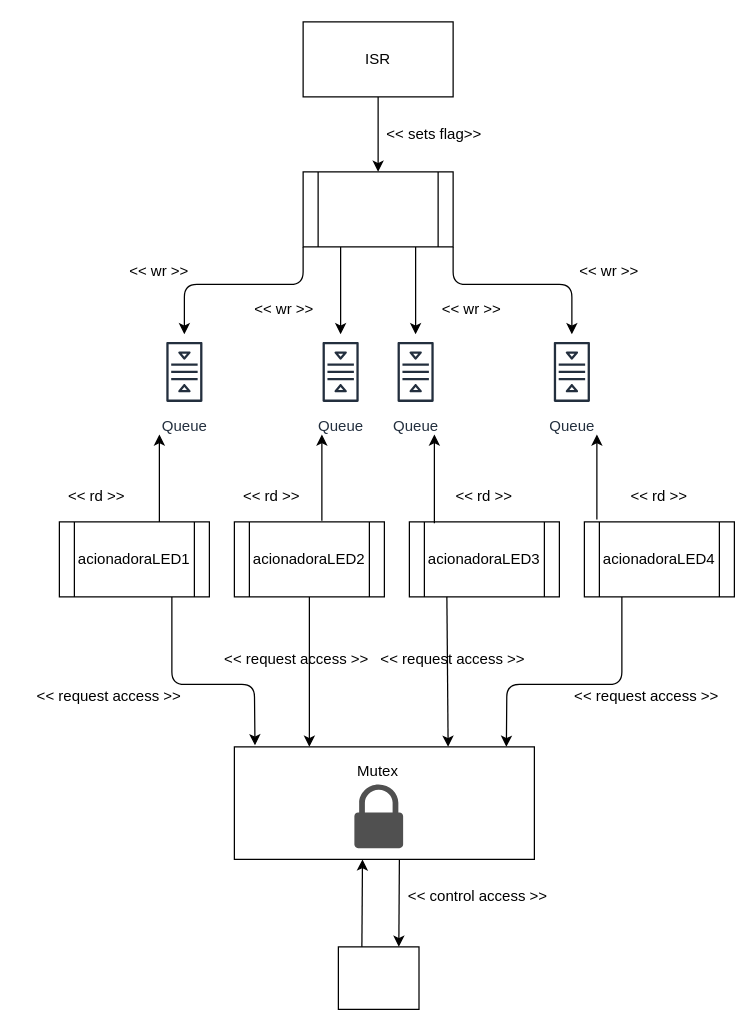
This 756x1031 diagram has some shape labels left out. Here are the shapes that lost their labels. From the top down, the centre of each, then its label:
At point 377,209: "controladora".
At point 378,977: "<<hw>> GPIO PORTJ".
